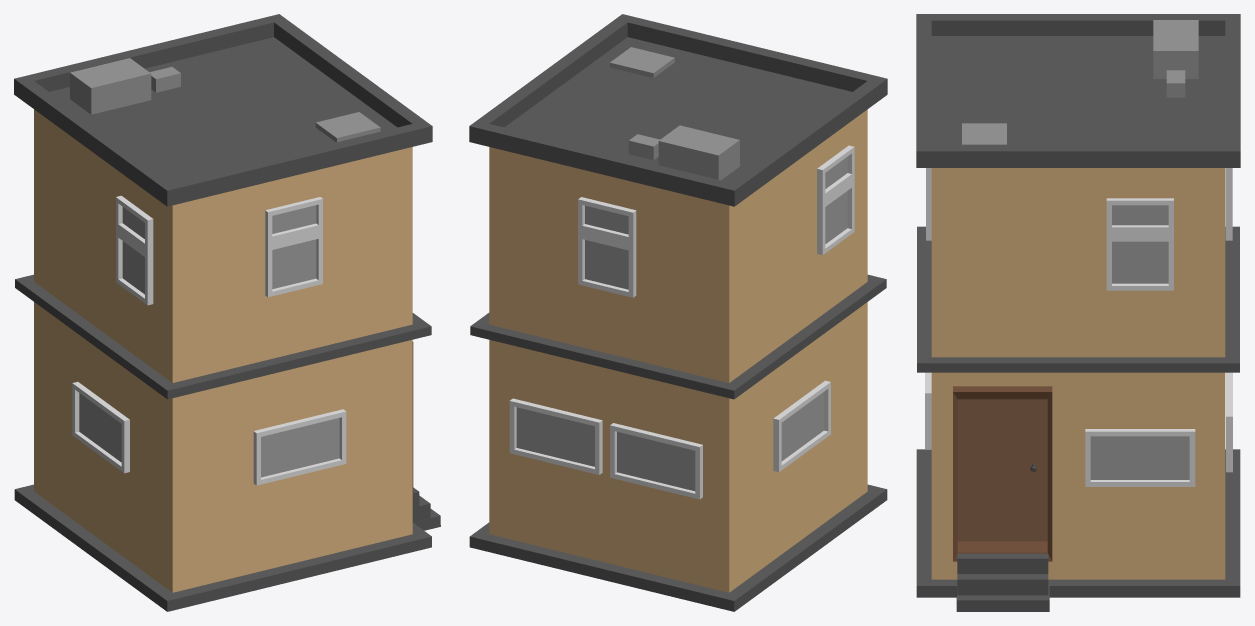
The model's file is Building.fbx.
The picture shows the model from 3 angles, left to right: view 1: azimuth 30°, elevation 25°; view 2: azimuth 150°, elevation 25°; view 3: azimuth 270°, elevation 25°; orthographic projection. The views are drawn at different scales.
Parts seen in each view (by area): view 1: Cube; view 2: Cube; view 3: Cube.
Part boxes in pixels (x1,y1,x2,y2): Cube: (14, 14, 440, 611); Cube: (469, 14, 887, 611); Cube: (916, 14, 1240, 611).
Size of the model in its own units: 490 by 693 by 444.
